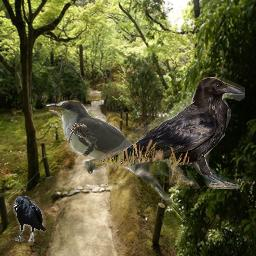Crow: (95, 77, 245, 189), (13, 196, 46, 242)
Cuckoo: (45, 100, 187, 222)
